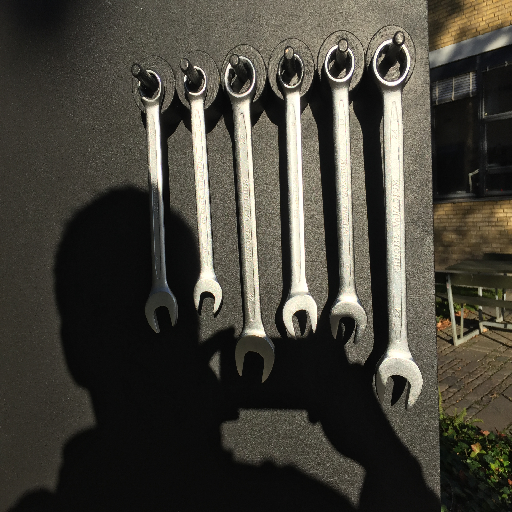bottom: (374, 347, 424, 413), (234, 330, 277, 385), (328, 296, 368, 347), (281, 291, 319, 339), (144, 287, 181, 336), (192, 275, 224, 315)
top: (370, 38, 412, 92), (222, 54, 260, 106), (322, 43, 357, 89), (276, 51, 307, 93), (136, 68, 166, 108), (182, 64, 210, 103)
